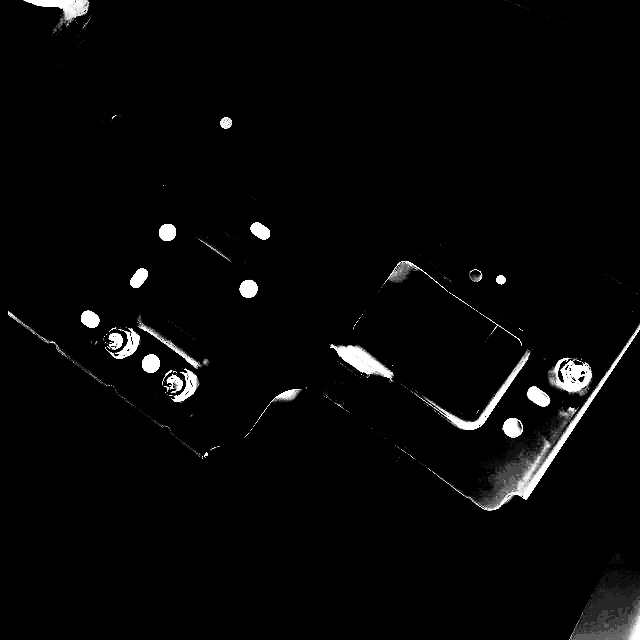dog: (555, 355, 591, 394), (102, 325, 139, 362), (160, 366, 196, 404)
